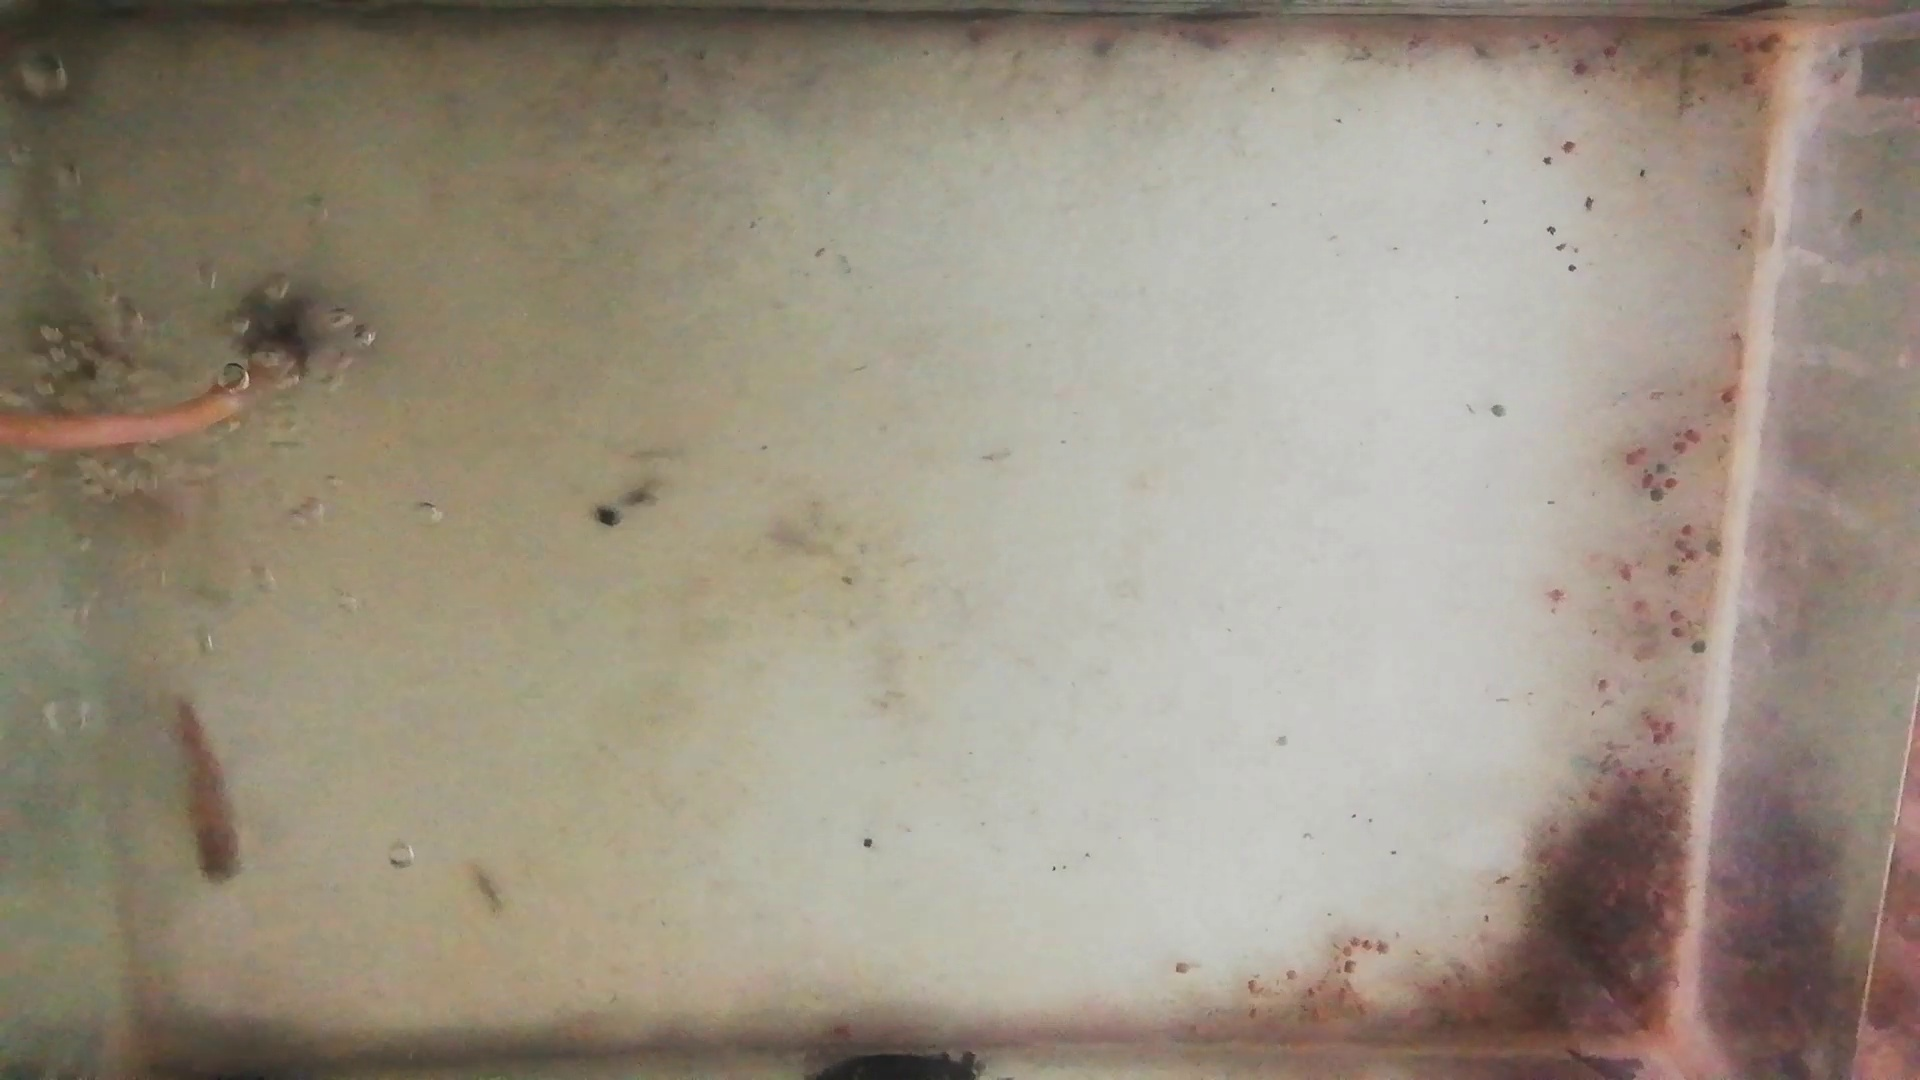fish: (170, 688, 247, 885), (33, 319, 131, 405)
